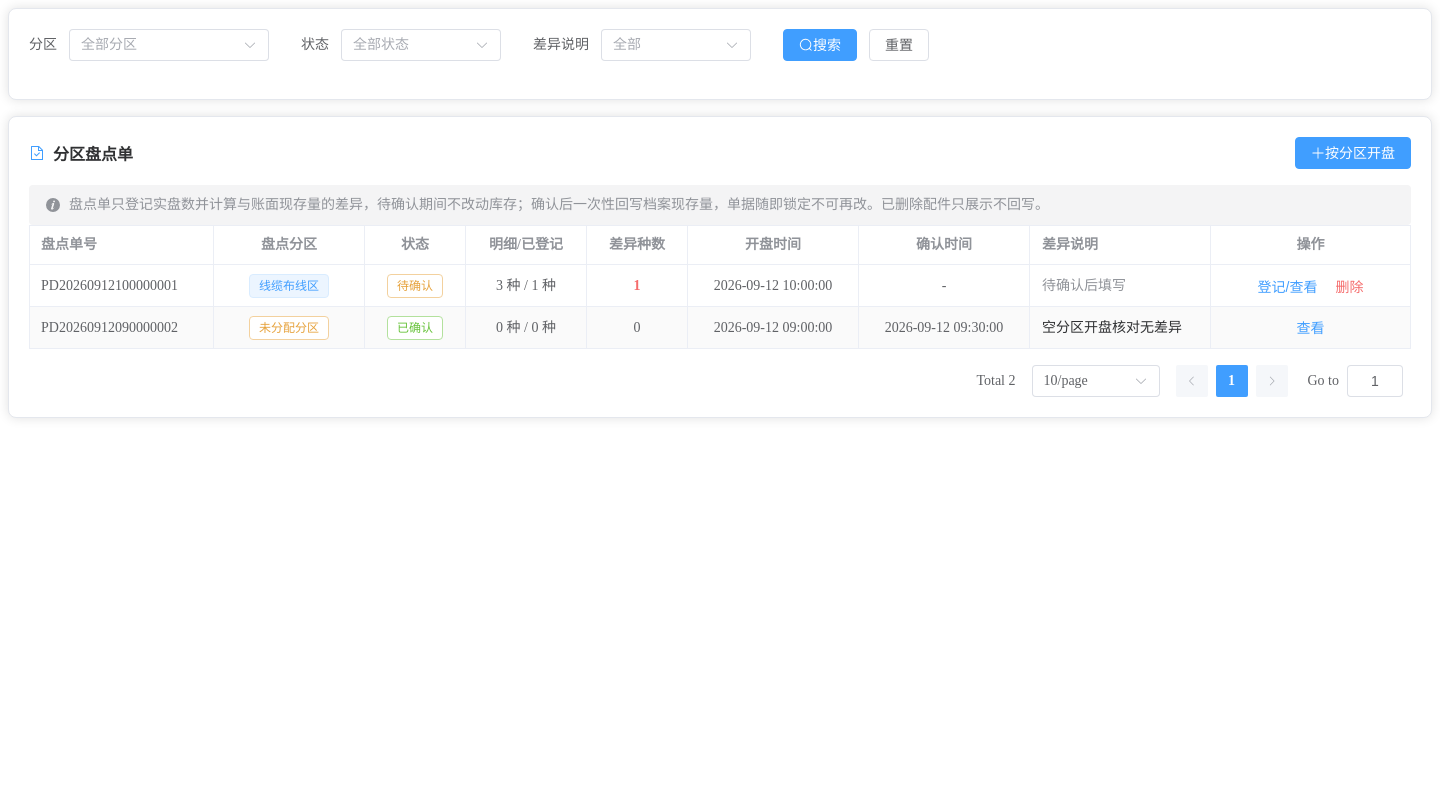
Scenario: 分区盘点 - 确认回写与锁定 › 确认成功：必须先填差异说明，确认时把说明带给接口、提示回写成功并广播库存变更
Click the button "登记/查看" at (1287, 287), box [1254, 277, 1320, 297]
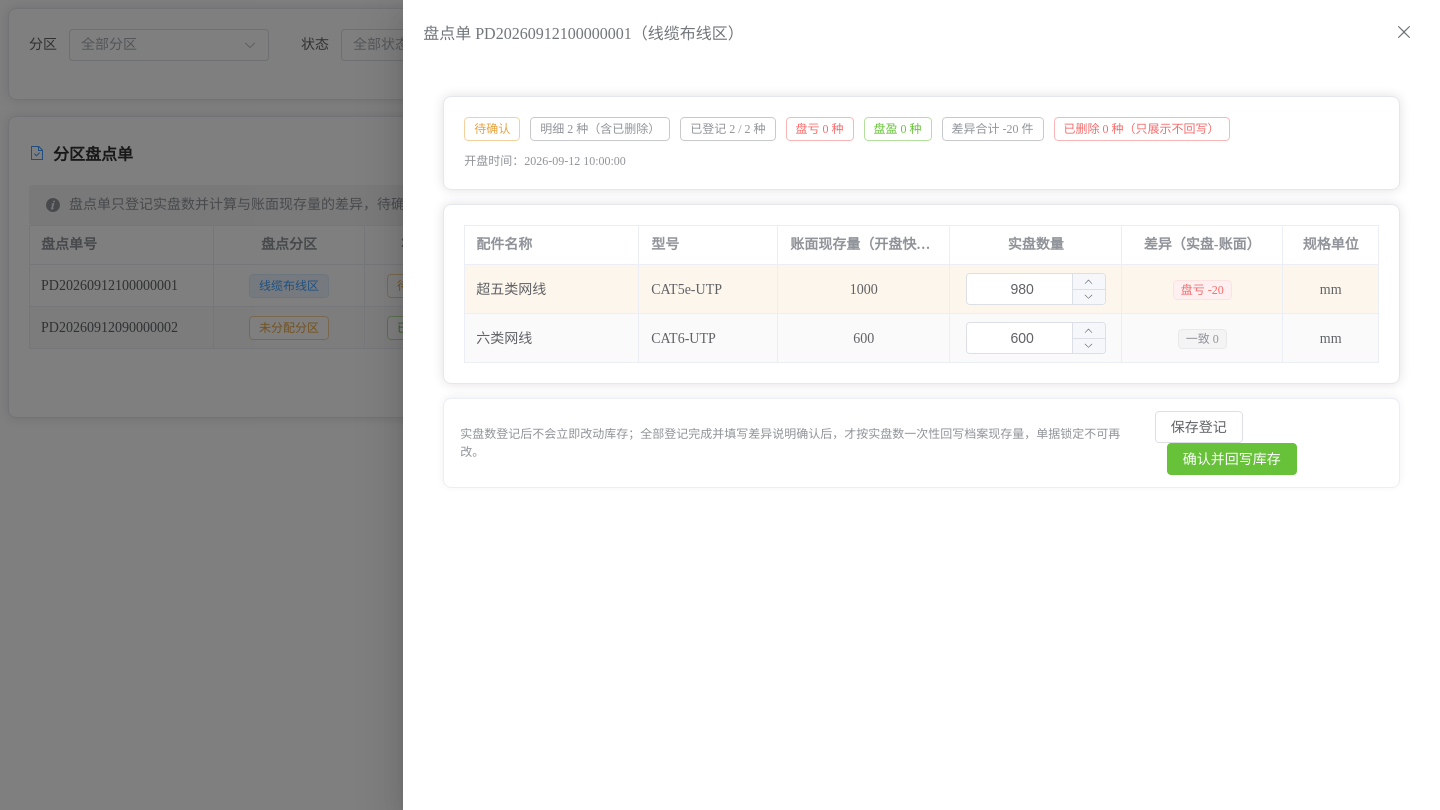
Click the button "确认并回写库存" at (1232, 459), box [1167, 443, 1297, 475]
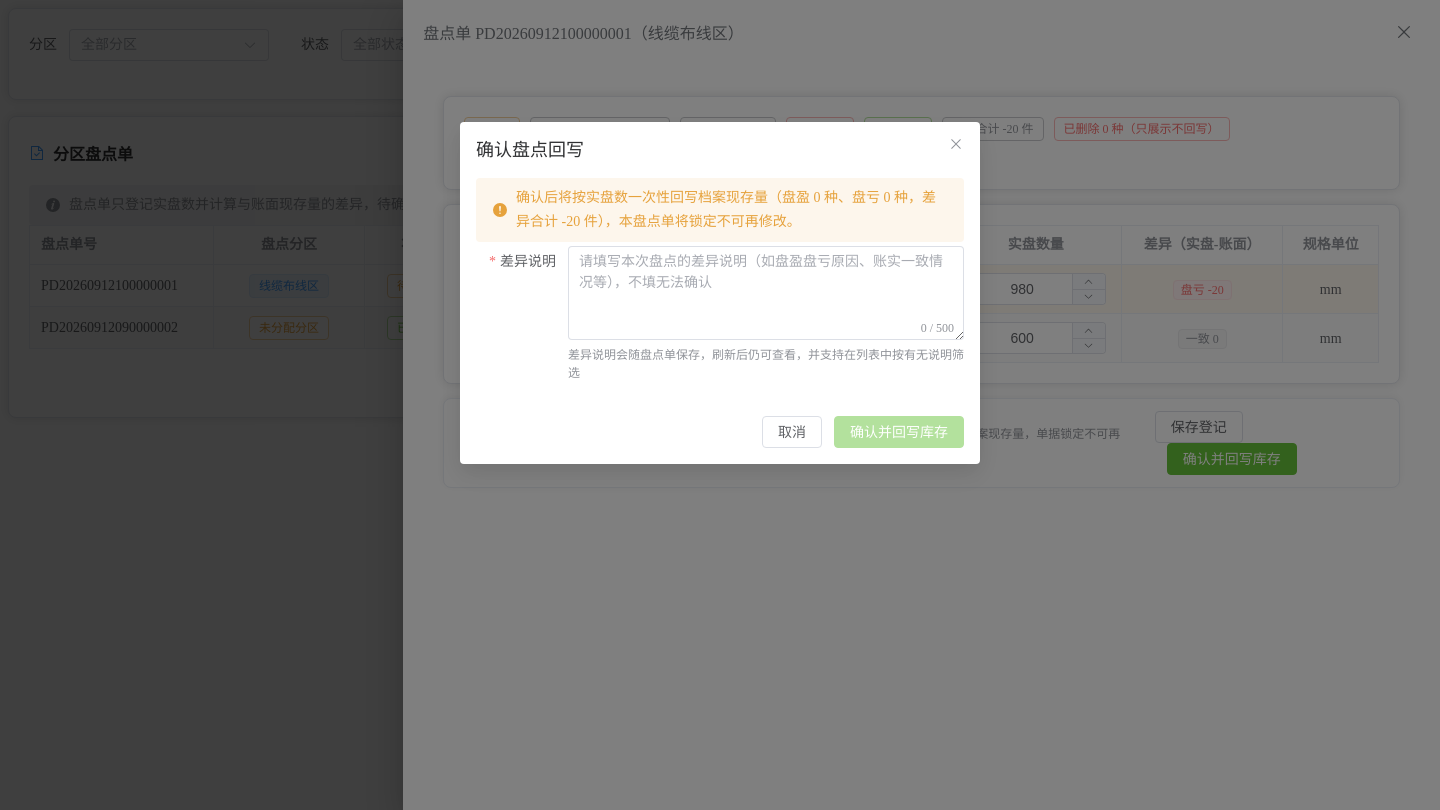
expect the element that starts with "确认盘点回写" is shown: met, box [460, 122, 980, 464]
expect the element that starts with "确认盘点回写" shows "差异说明": met, box [500, 254, 556, 268]
expect the button "确认并回写库存" is disabled: met, box [834, 416, 964, 448]
Type "  月度盘点差异已逐笔核对  " into the text box labelled "差异说明" at (766, 292), box [568, 246, 964, 340]
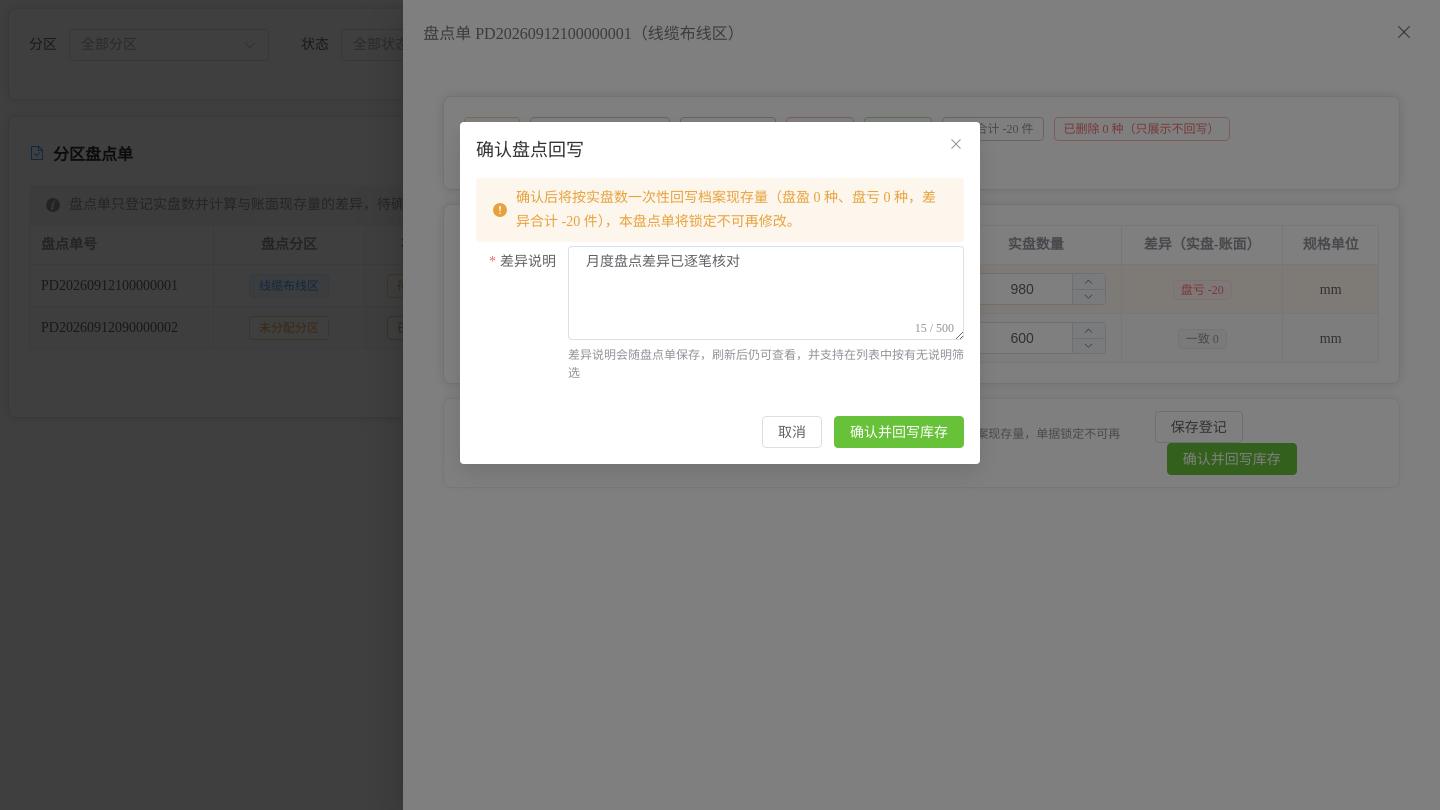
expect the button "确认并回写库存" is enabled: met
Click the button "确认并回写库存" at (899, 432), box [834, 416, 964, 448]
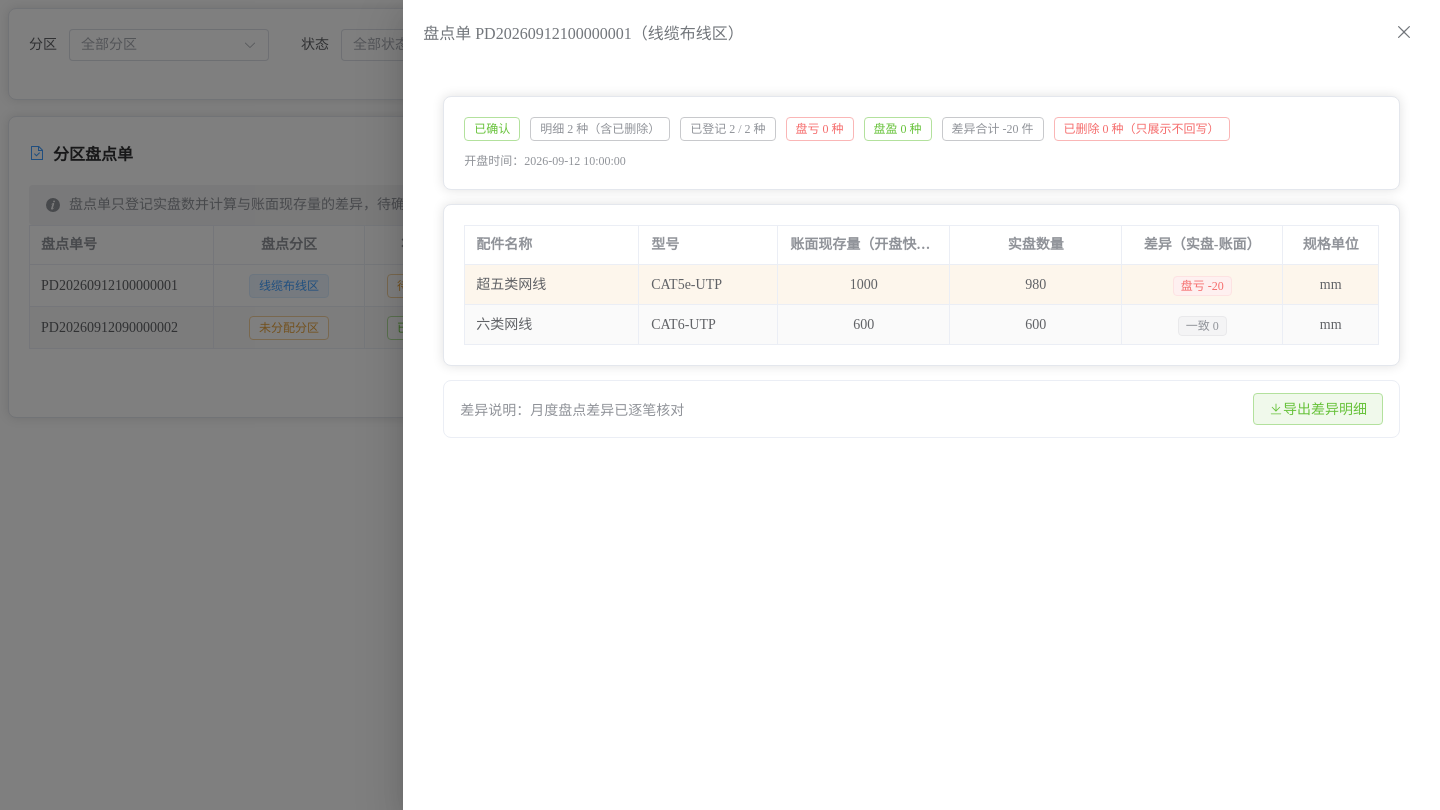
expect the dialog shows "差异说明：月度盘点差异已逐笔核对": met, box [460, 403, 684, 418]
